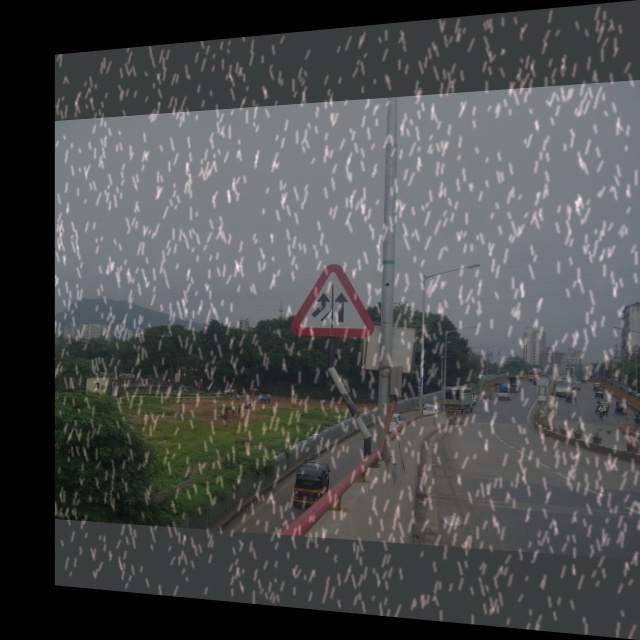Merge_Traffic_Ahead: (287, 254, 371, 344)
